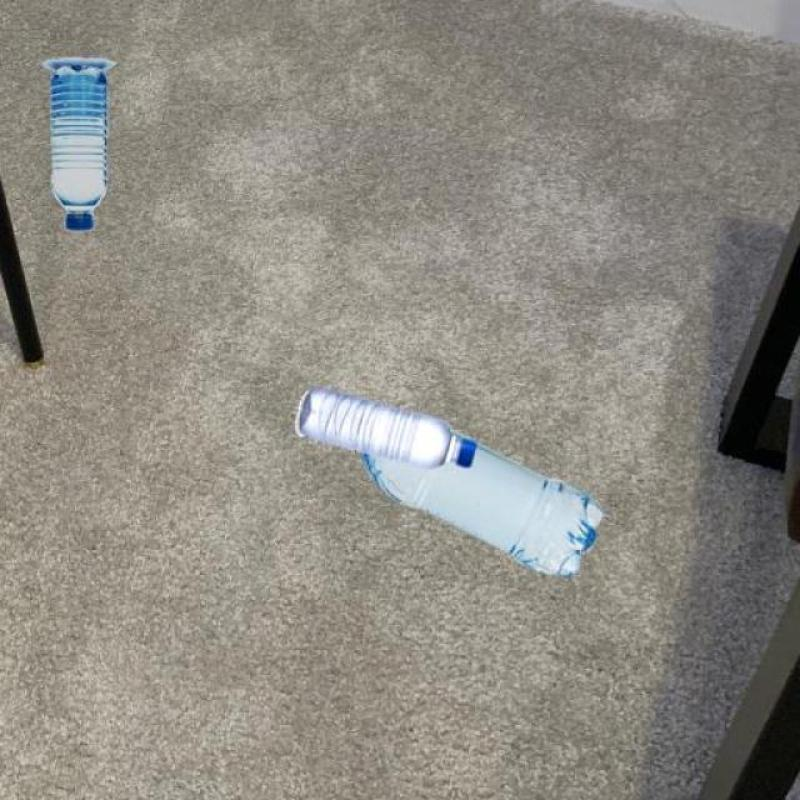botella: (366, 416, 606, 578), (296, 388, 478, 474), (49, 66, 112, 230)
